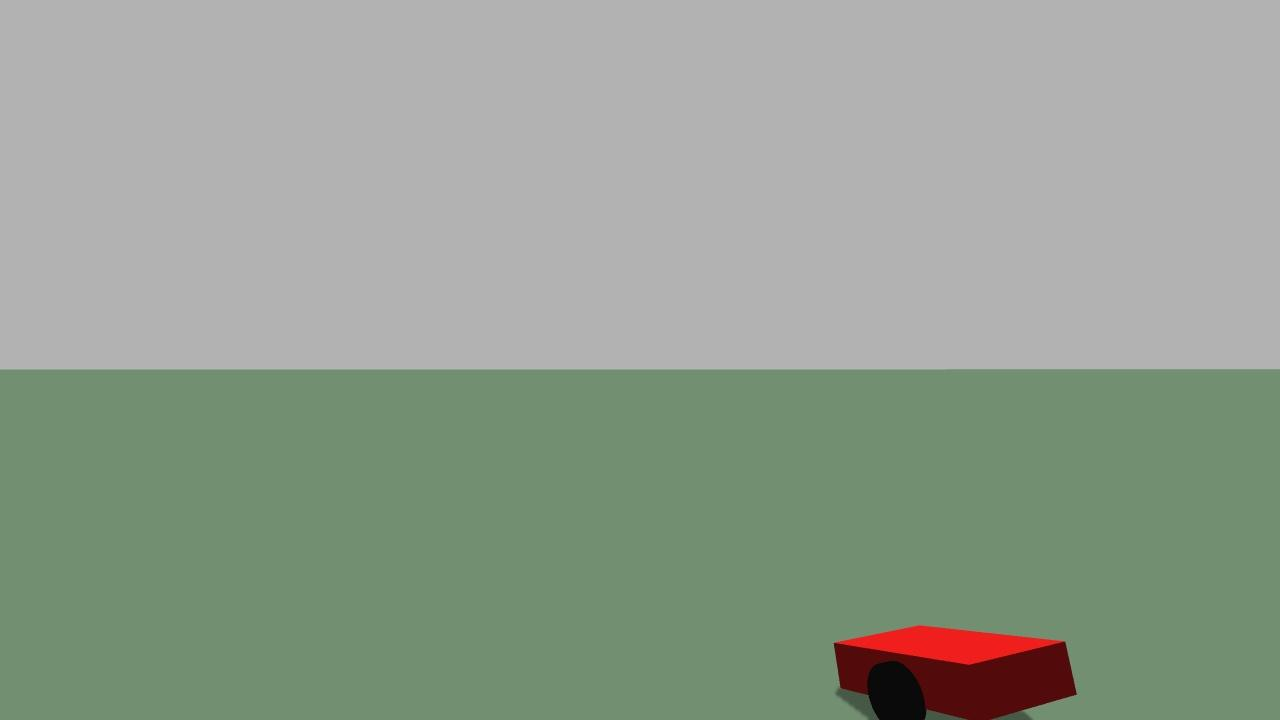ground_vehicle: (815, 612, 1084, 720)
